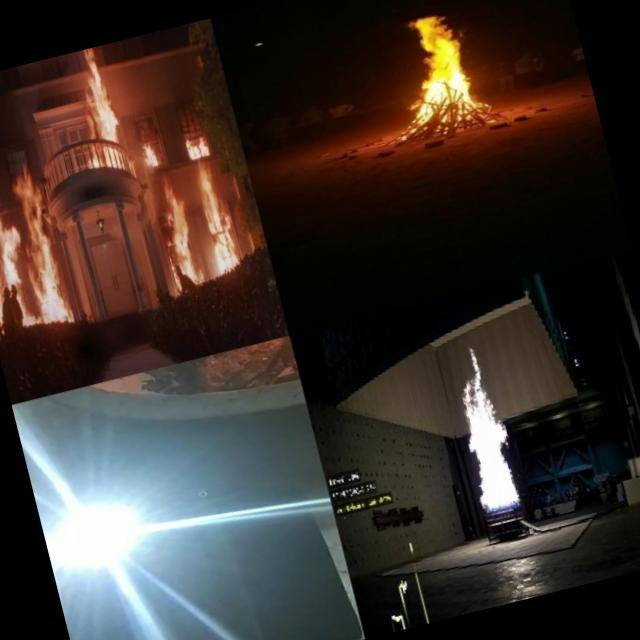fire: (442, 344, 532, 524), (375, 5, 487, 130), (0, 151, 73, 336), (142, 169, 210, 309), (70, 46, 132, 186), (185, 136, 242, 288), (136, 129, 162, 171)
